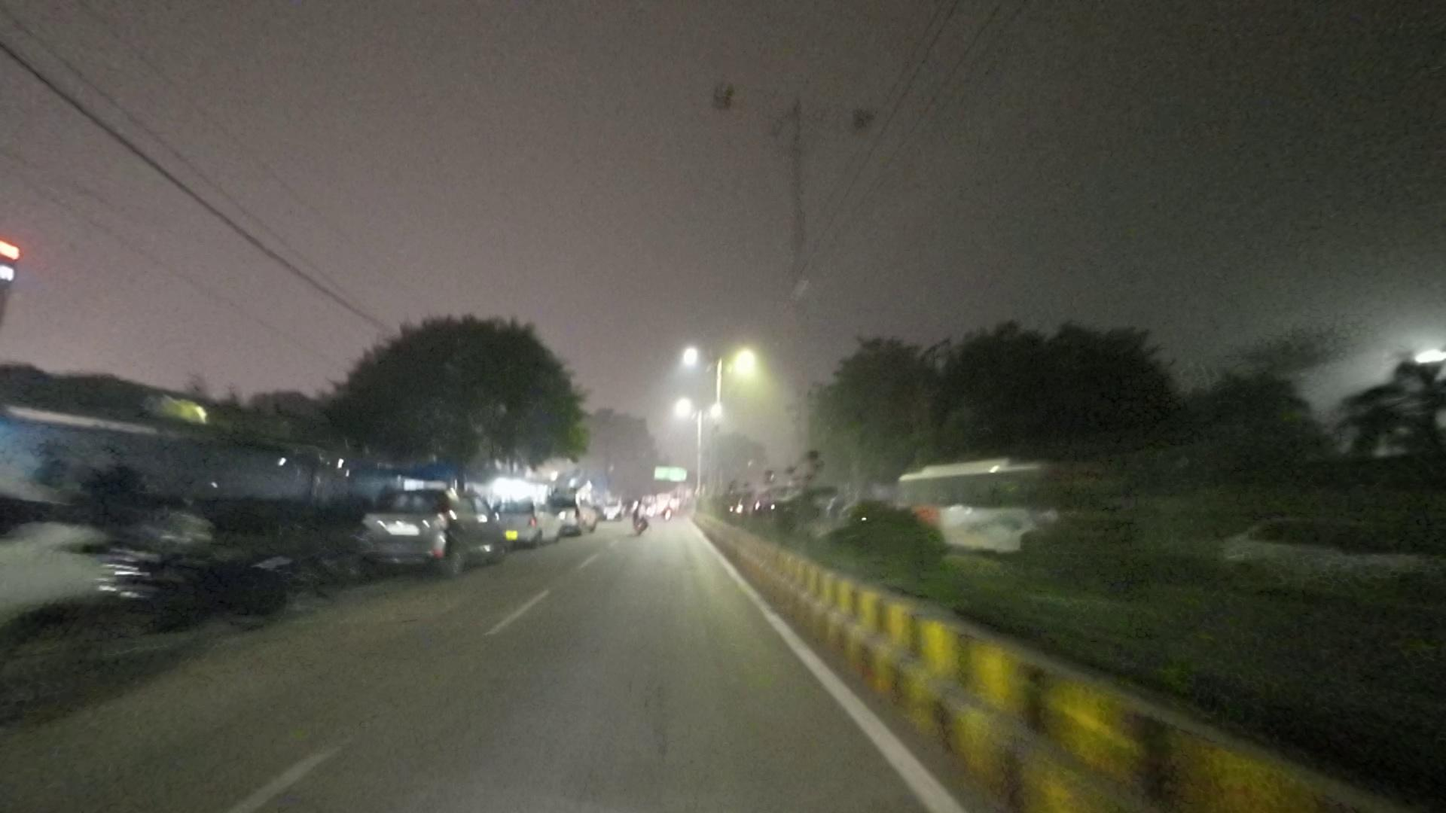streetlight: (712, 82, 792, 110), (802, 102, 874, 129)
